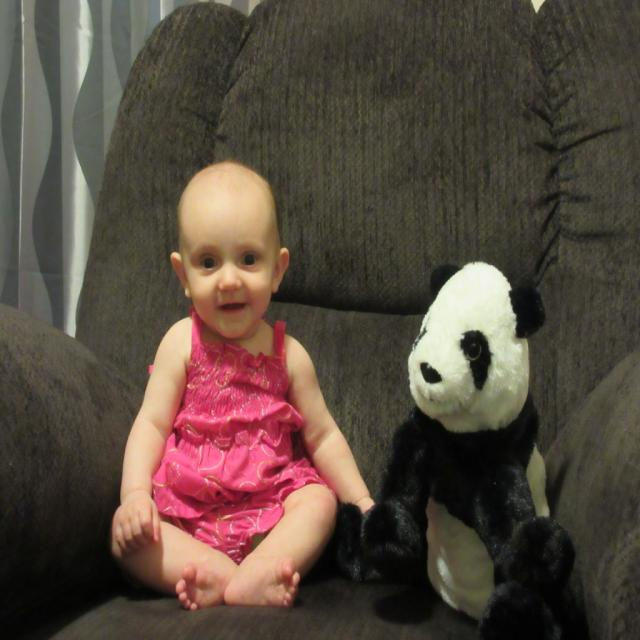panda: (340, 265, 574, 640)
